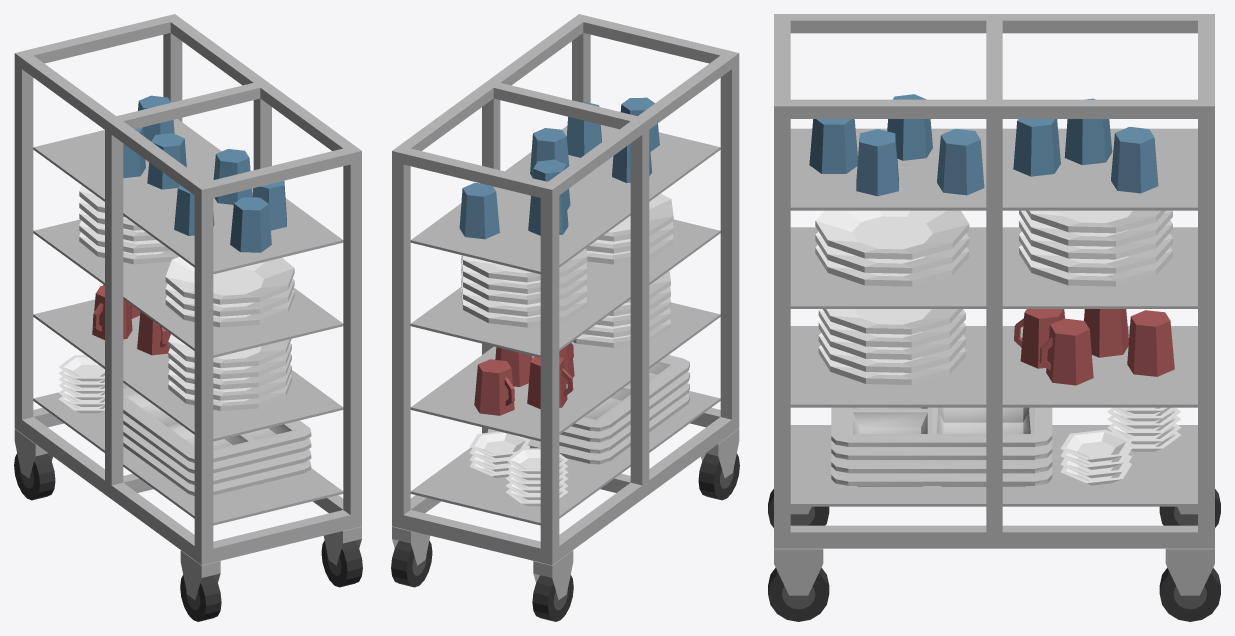
The model's file is CanteenTrolley-Full_01.fbx.
3 renders of one model, left to right at view 1: azimuth 30°, elevation 25°; view 2: azimuth 150°, elevation 25°; view 3: azimuth 270°, elevation 25°, orthographic. The views are drawn at different scales.
Visible parts, largest first — view 1: KitchenTrolley_01; view 2: KitchenTrolley_01; view 3: KitchenTrolley_01.
Boxes of the visible parts, x1,y1,x2,y2 form: KitchenTrolley_01: (14,14,362,621); KitchenTrolley_01: (391,14,739,621); KitchenTrolley_01: (768,14,1220,621).
Bounding box in the file's own units: 67.61 × 177 × 140.
